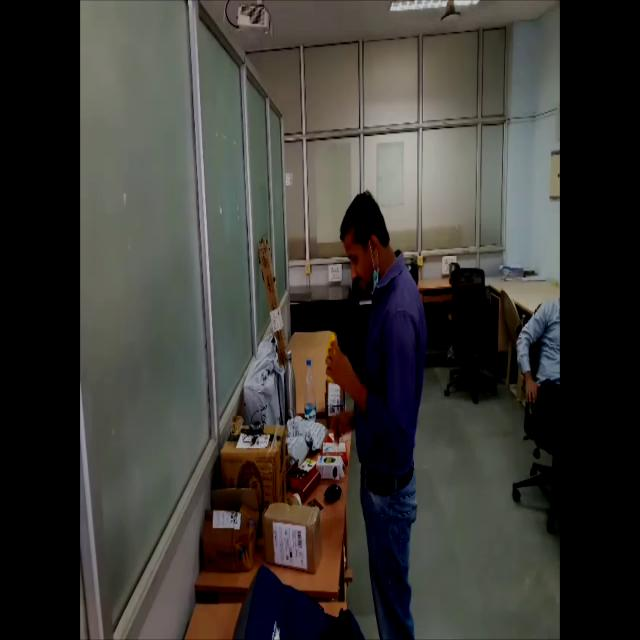normal: (323, 179, 430, 640)
